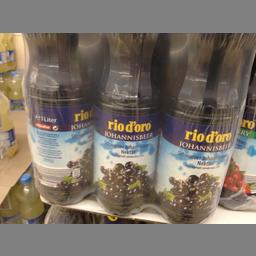juice: (150, 33, 254, 222), (90, 33, 160, 216), (22, 32, 92, 203)
